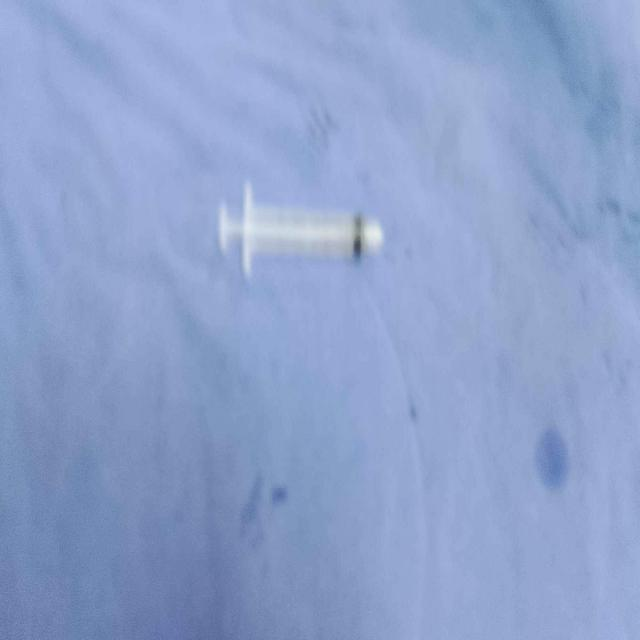General: (3, 2, 638, 637)
Sharps: (217, 179, 386, 283)
